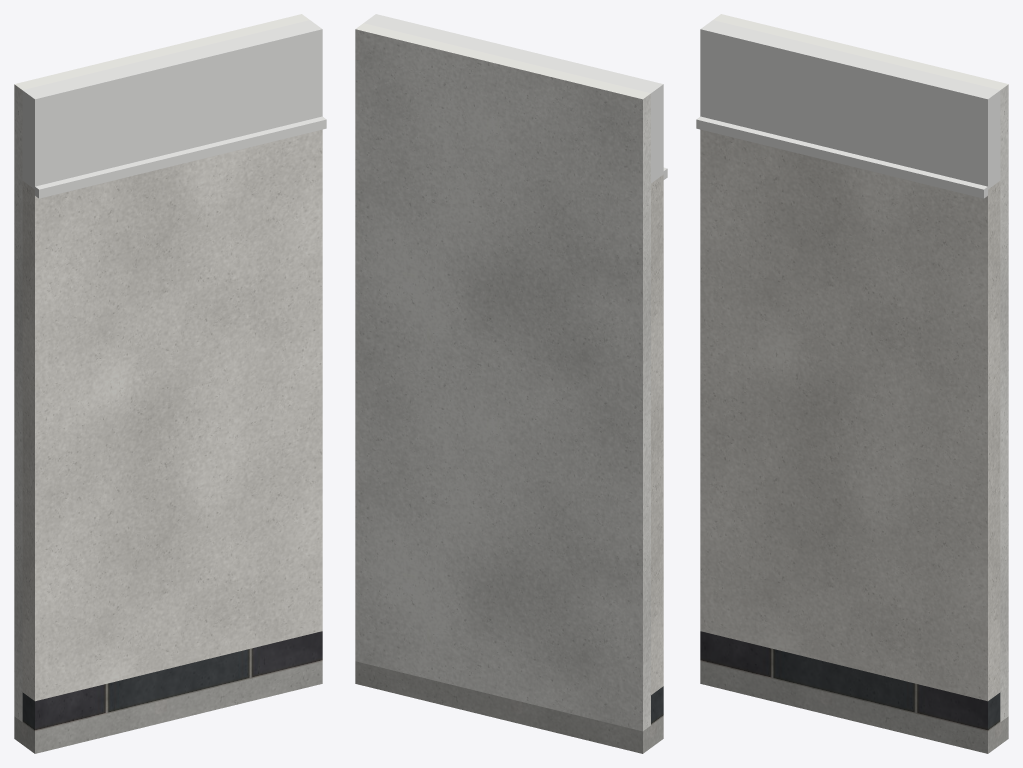
Rendered from s_plain.glb.
The picture shows the model from 3 angles, left to right: view 1: azimuth 30°, elevation 25°; view 2: azimuth 150°, elevation 25°; view 3: azimuth 330°, elevation 25°; orthographic projection.
Visible parts, largest first — view 1: s_plain_render, s_plain_panel_w, s_plain_block_d, s_plain_plaster, s_plain_concrete; view 2: s_plain_plaster, s_plain_concrete, s_plain_render, s_plain_panel_w; view 3: s_plain_render, s_plain_panel_w, s_plain_block_d, s_plain_plaster, s_plain_concrete.
Part boxes in pixels (bbox=[...]): s_plain_render: bbox=[22, 129, 322, 701]; s_plain_panel_w: bbox=[22, 20, 326, 198]; s_plain_block_d: bbox=[22, 631, 322, 731]; s_plain_plaster: bbox=[14, 14, 309, 721]; s_plain_concrete: bbox=[14, 661, 322, 753]; s_plain_plaster: bbox=[355, 23, 650, 731]; s_plain_concrete: bbox=[355, 661, 663, 753]; s_plain_render: bbox=[651, 174, 663, 694]; s_plain_panel_w: bbox=[364, 14, 667, 183]; s_plain_render: bbox=[700, 129, 1000, 701]; s_plain_panel_w: bbox=[696, 20, 1000, 198]; s_plain_block_d: bbox=[700, 631, 1000, 731]; s_plain_plaster: bbox=[713, 14, 1008, 721]; s_plain_concrete: bbox=[700, 661, 1008, 753].
Bounding box in the file's own units: 2 × 4.35 × 0.3.
Materials: 5 (4 with a texture image).
